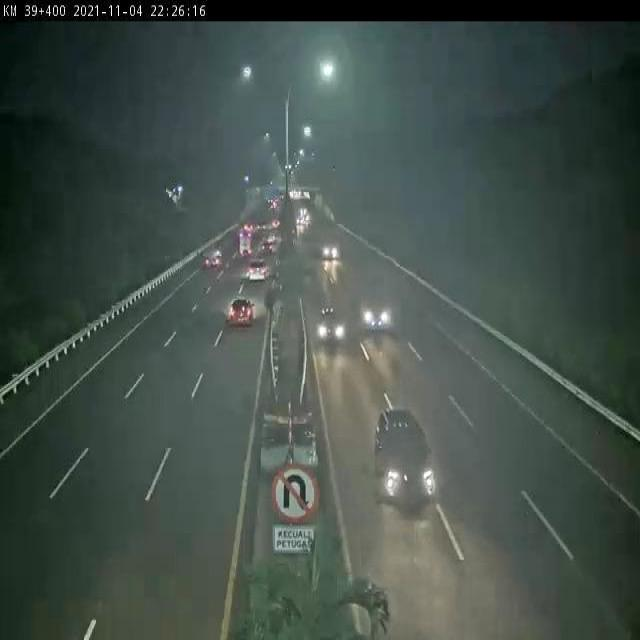car: (375, 405, 436, 516), (361, 293, 398, 335), (313, 303, 343, 352), (226, 291, 261, 332), (249, 264, 268, 284)
